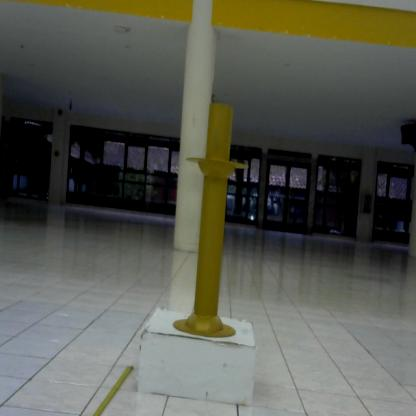pole: (165, 94, 255, 354)
